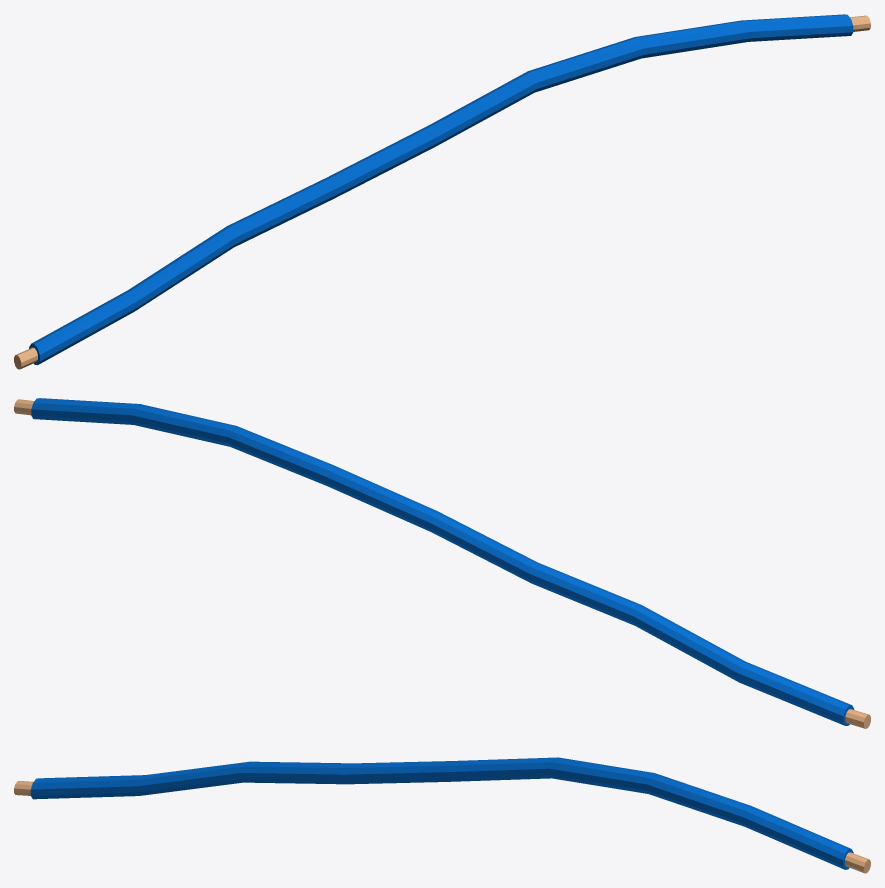
File: Wire_1_Blue.fbx
3 views of the same model, one above another, from view 1: azimuth 30°, elevation 25°; view 2: azimuth 150°, elevation 25°; view 3: azimuth 330°, elevation 25° (orthographic). The views are drawn at different scales.
Visible parts, largest first — view 1: polySurface229; view 2: polySurface229; view 3: polySurface229.
Part boxes in pixels (x1,y1,x2,y2): polySurface229: (14,14,870,369); polySurface229: (14,398,870,728); polySurface229: (14,757,870,873).
Size of the model in its own units: 1.42 by 0.2624 by 0.0817.
